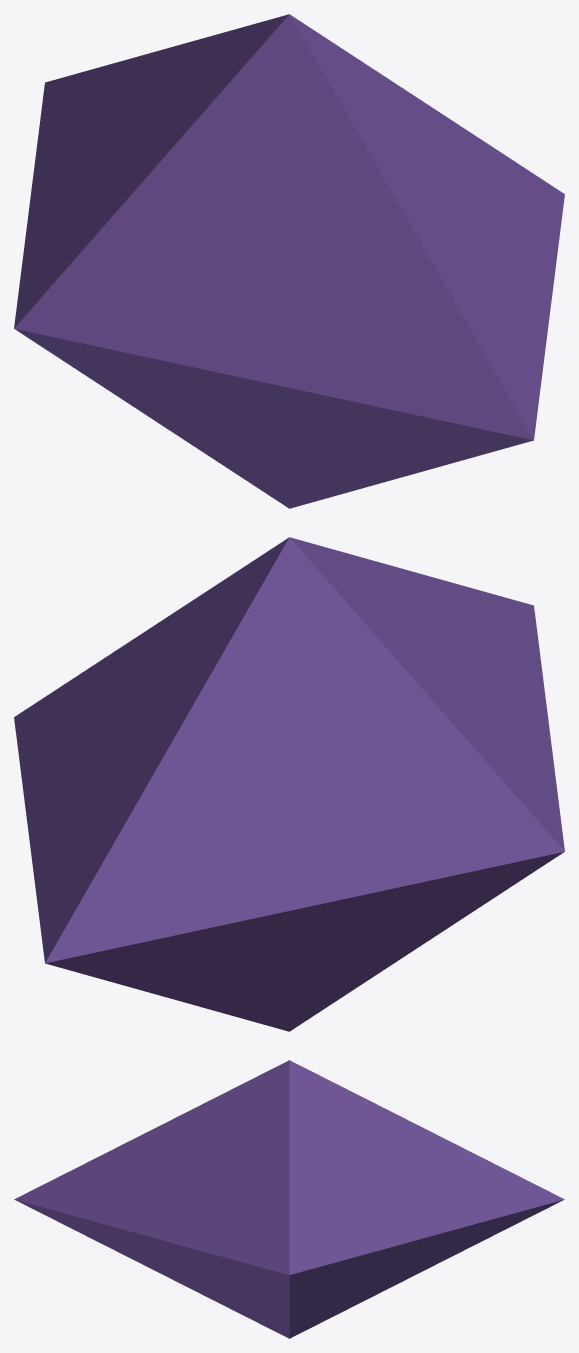
File: teste2.gltf
3 views of the same model, one above another, from view 1: azimuth 30°, elevation 25°; view 2: azimuth 150°, elevation 25°; view 3: azimuth 270°, elevation 25° (orthographic). The views are drawn at different scales.
Visible parts, largest first — view 1: Octahedron; view 2: Octahedron; view 3: Octahedron.
Part boxes in pixels (left/top/right/bottom): Octahedron: left=14, top=14, right=564, bottom=508; Octahedron: left=14, top=537, right=564, bottom=1031; Octahedron: left=14, top=1060, right=564, bottom=1338.
Bounding box in the file's own units: 2.33 × 2 × 3.58.
